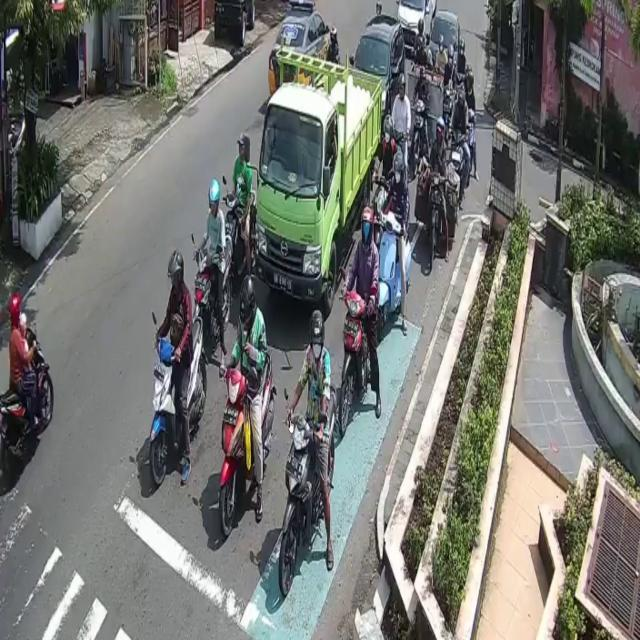bus: (279, 383, 339, 596), (148, 313, 208, 488), (221, 349, 276, 537), (0, 328, 54, 479), (339, 294, 380, 434), (190, 234, 233, 344), (376, 210, 409, 334), (221, 190, 256, 278), (428, 165, 447, 264), (412, 101, 430, 176), (448, 133, 467, 195)
motorcycle: (351, 14, 406, 142), (267, 9, 340, 95), (396, 0, 432, 57)
truck: (256, 45, 384, 313)
